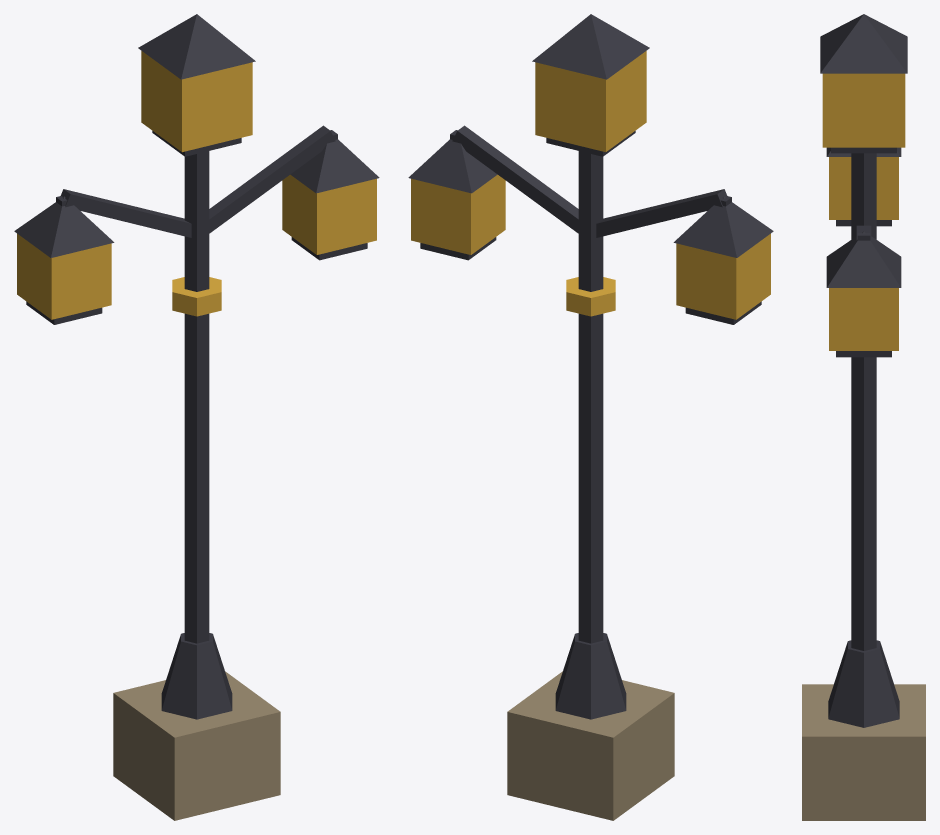
File: Lamp_Post_Triple.fbx
The picture shows the model from 3 angles, left to right: view 1: azimuth 30°, elevation 25°; view 2: azimuth 150°, elevation 25°; view 3: azimuth 270°, elevation 25°; orthographic projection.
Visible parts, largest first — view 1: Lamp_Post_Triple; view 2: Lamp_Post_Triple; view 3: Lamp_Post_Triple.
Part boxes in pixels (x1,y1,x2,y2): Lamp_Post_Triple: [14, 14, 379, 820]; Lamp_Post_Triple: [408, 14, 773, 820]; Lamp_Post_Triple: [802, 14, 925, 820].
Bounding box in the file's own units: 1.86 × 4.17 × 0.6.
